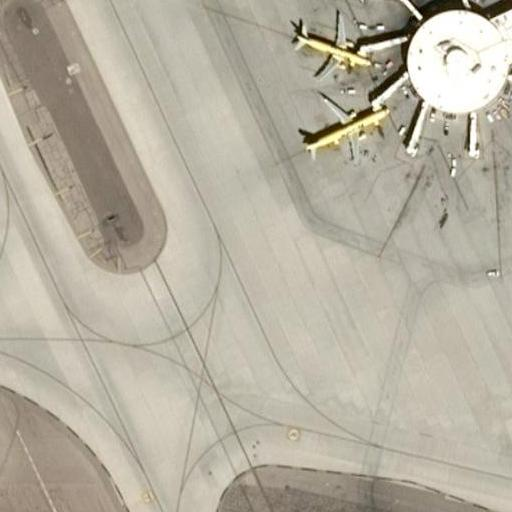Aircraft: (296, 91, 389, 160), (288, 9, 371, 80)
